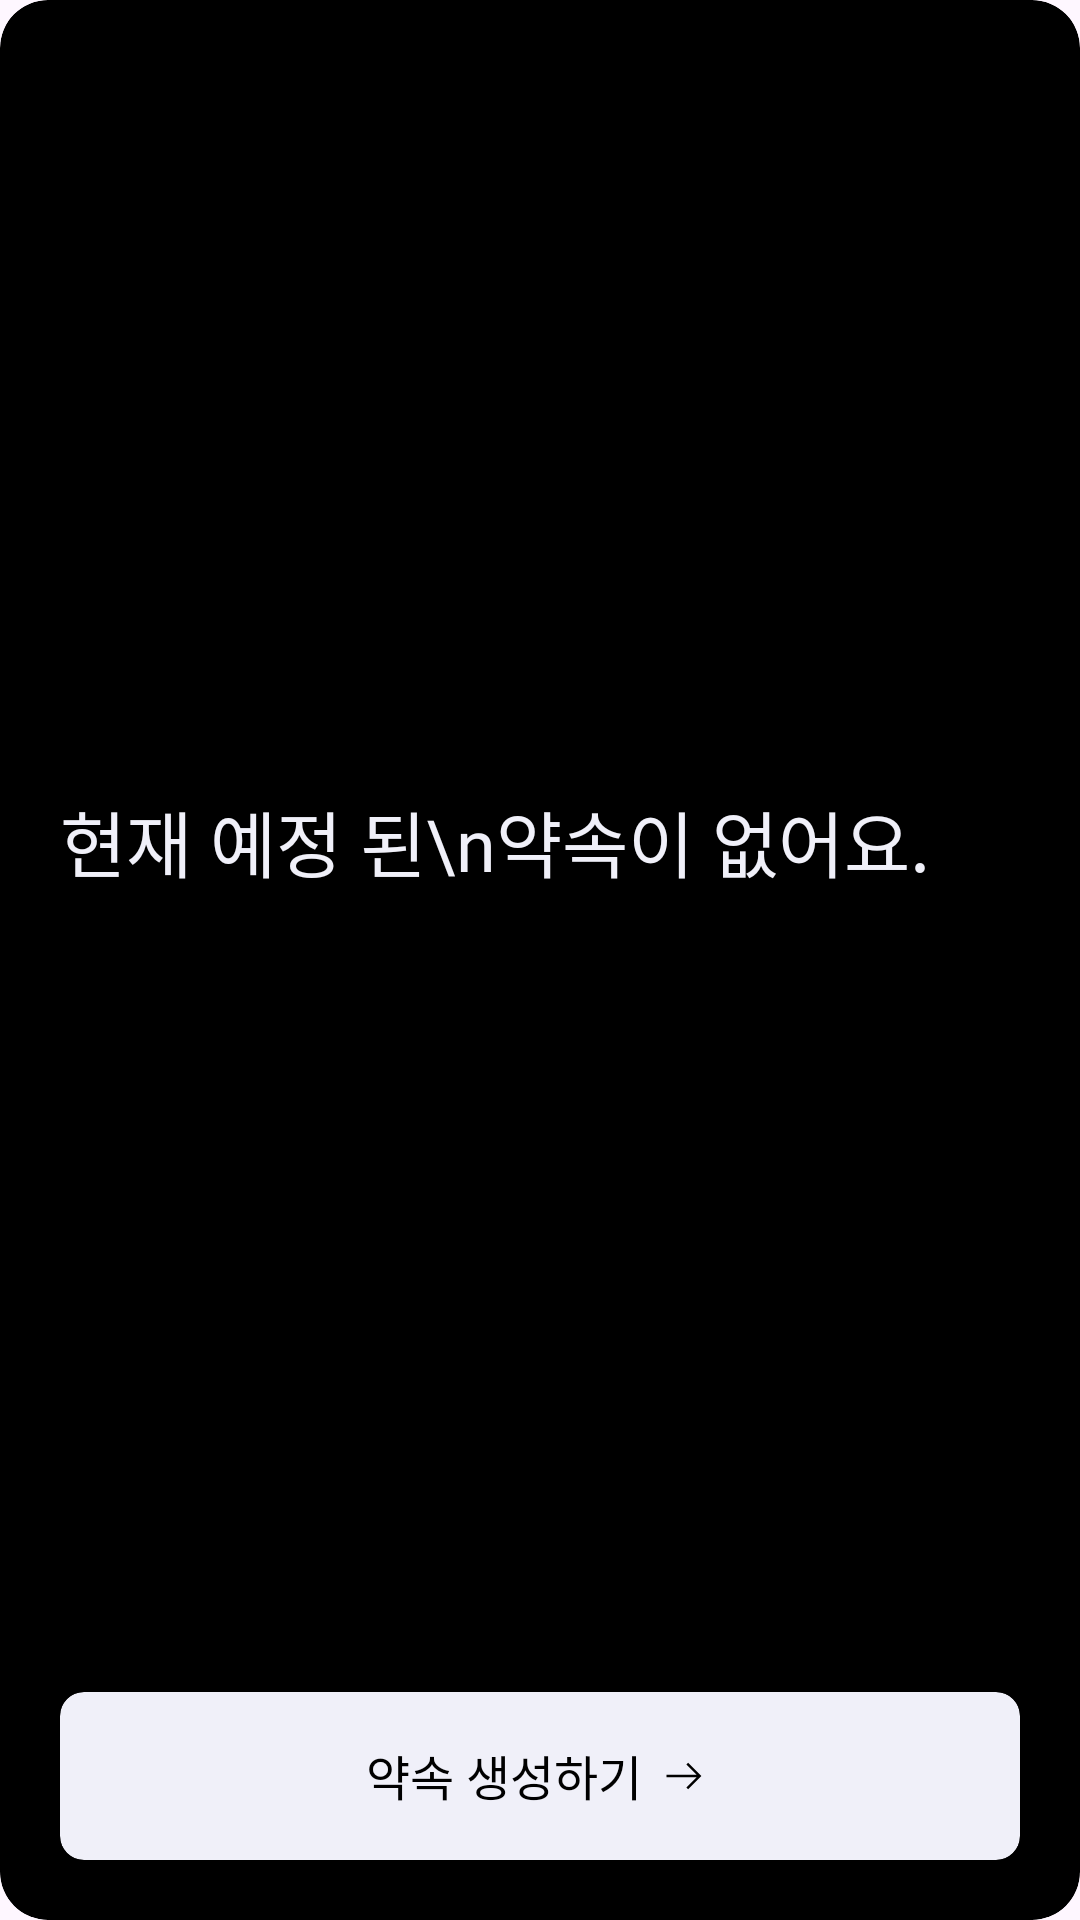

Screen size 1080x1920. Icon name, then its box in pixels as region(x1, y1, x2, y2):
next: region(666, 1763, 701, 1789)
